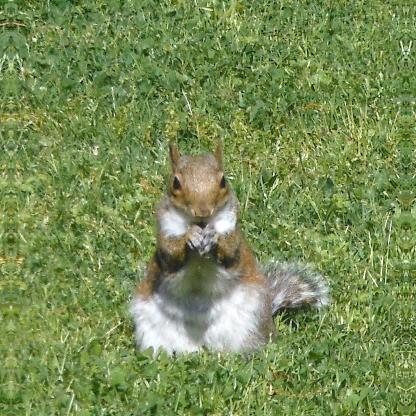Squirrel: (130, 140, 330, 352)
